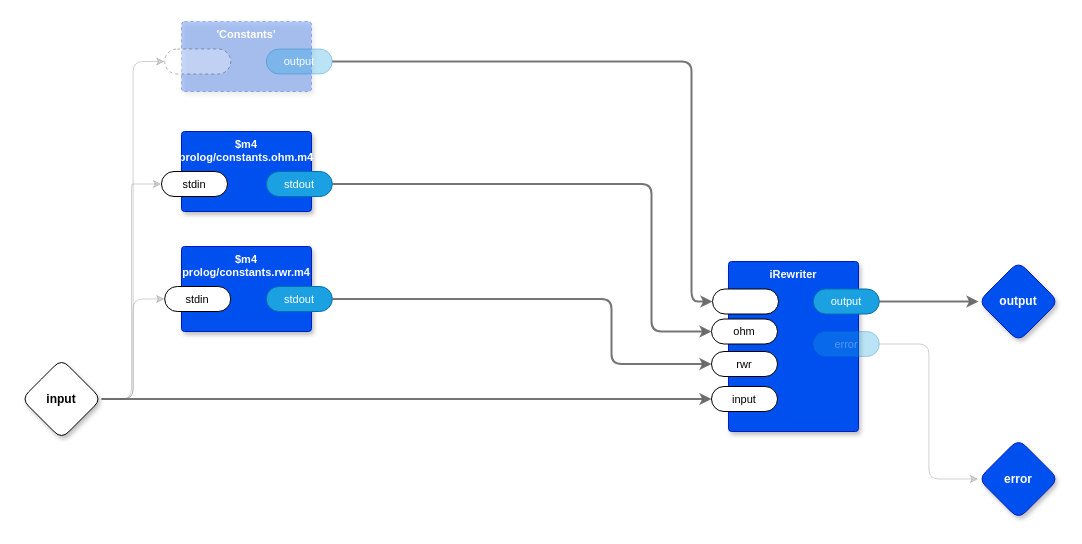
Some shapes in this 1082 by 544 pixel diagram are drawn without their labels. Each missing label, with the centre of its shape:
go: pixel 197 61
grammar name: pixel 745 301
